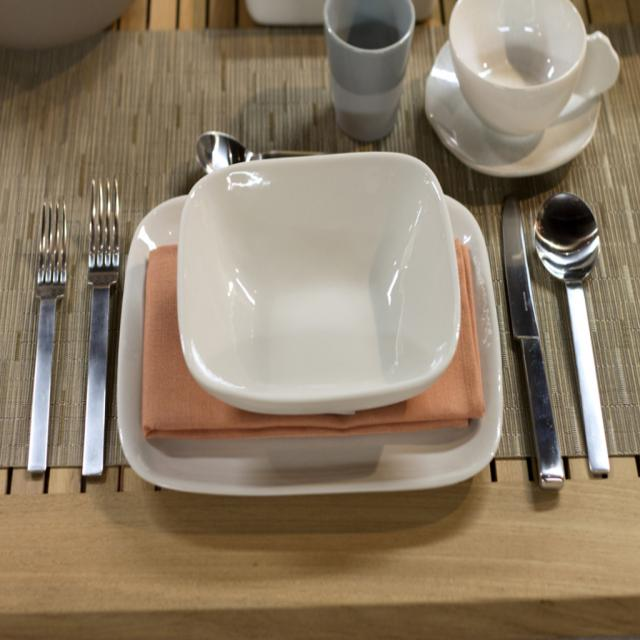non-organic waste: (90, 161, 522, 508)
